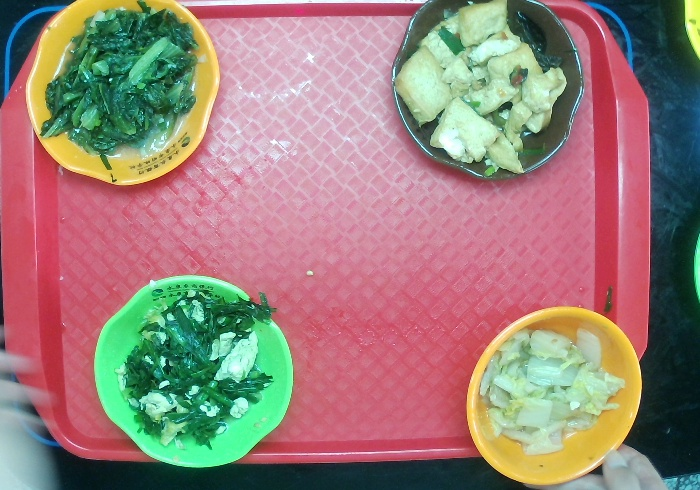YKMZ-Ju_Se_Ao_Bian_Wan: (22, 1, 228, 194)
YKMZ-Ju_Se_Yuan_Wan: (448, 292, 664, 490)
YKMZ-Ka_Fei_Ao_Bian_Wan: (384, 1, 595, 188)
YKMZ-Lv_Se_Ao_Bian_Wan: (90, 263, 308, 483)
